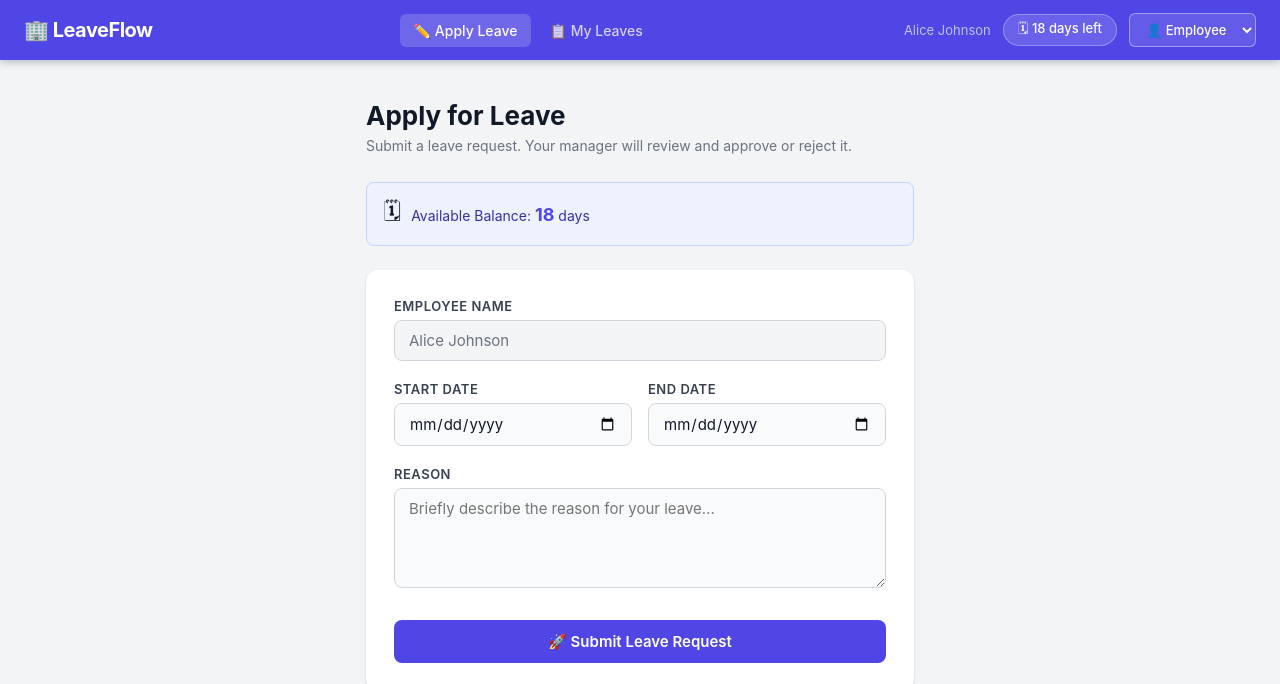
Scenario: Leave Management – E2E Tests › Apply Leave Validation › rejects submission when required fields are empty
Select "👤 Employee" in the dropdown with test id "role-switcher" at (1193, 30), box [1129,13,1256,47]
Expected: the date field with test id "start-date" is shown, [394,403,632,446]
Click the button with test id "submit-btn" at (640, 642), box [394,620,886,663]
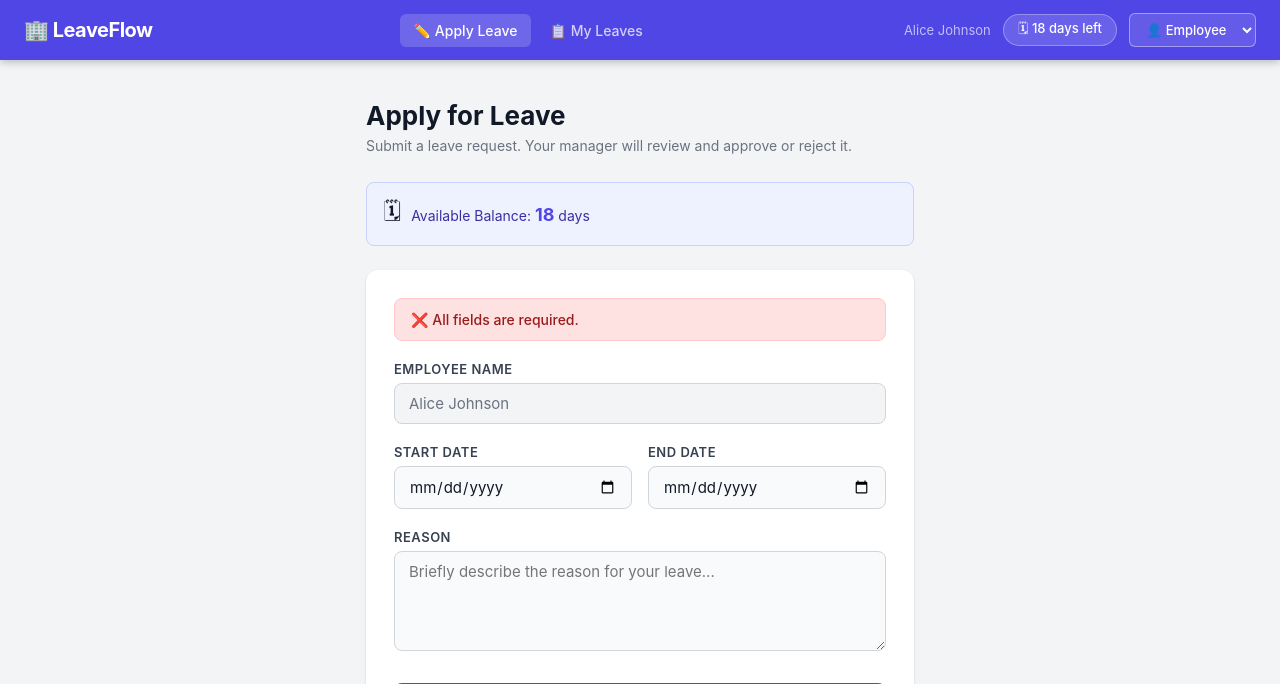
Result: the message with test id "error-message" shows "required" at [394,298,886,341]
